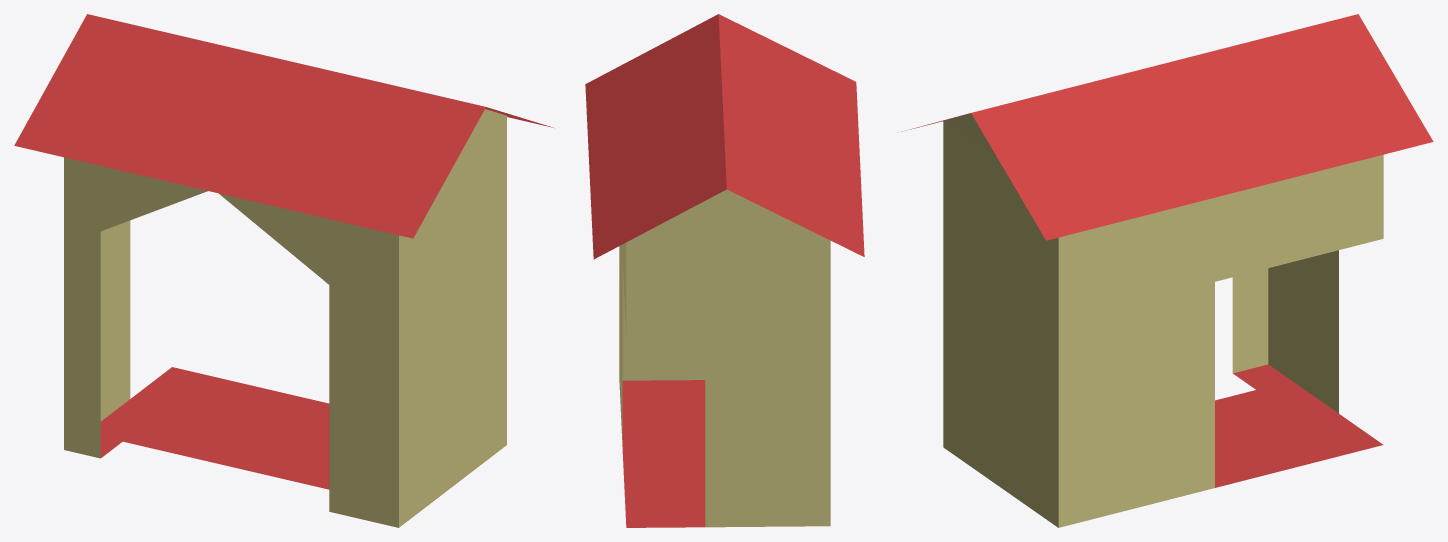
The picture shows the model from 3 angles, left to right: view 1: azimuth 30°, elevation 25°; view 2: azimuth 150°, elevation 25°; view 3: azimuth 270°, elevation 25°; orthographic projection. The views are drawn at different scales.
Bounding box in the file's own units: 13.39 × 14.86 × 11.64.
